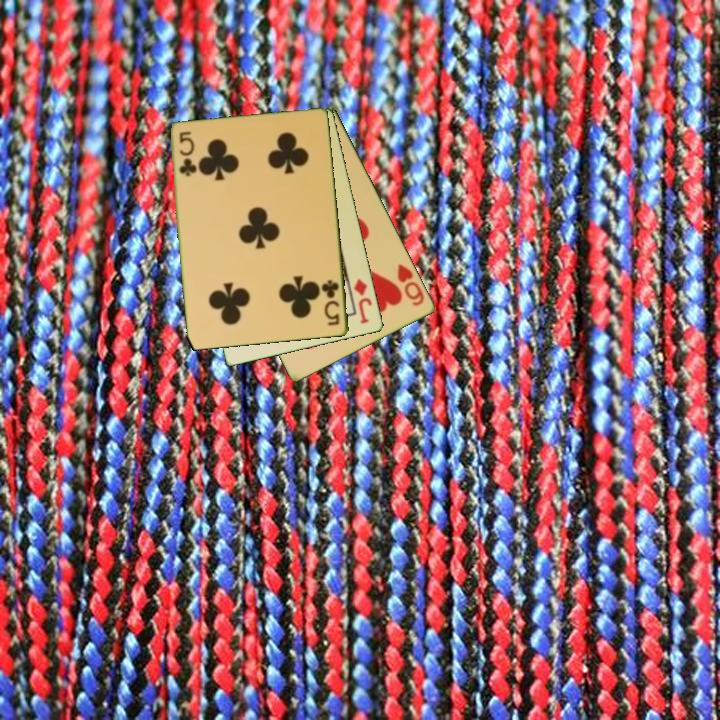5c: (318, 276, 343, 329), (176, 128, 198, 180)
6h: (394, 260, 428, 309)
Jd: (350, 275, 375, 327)
